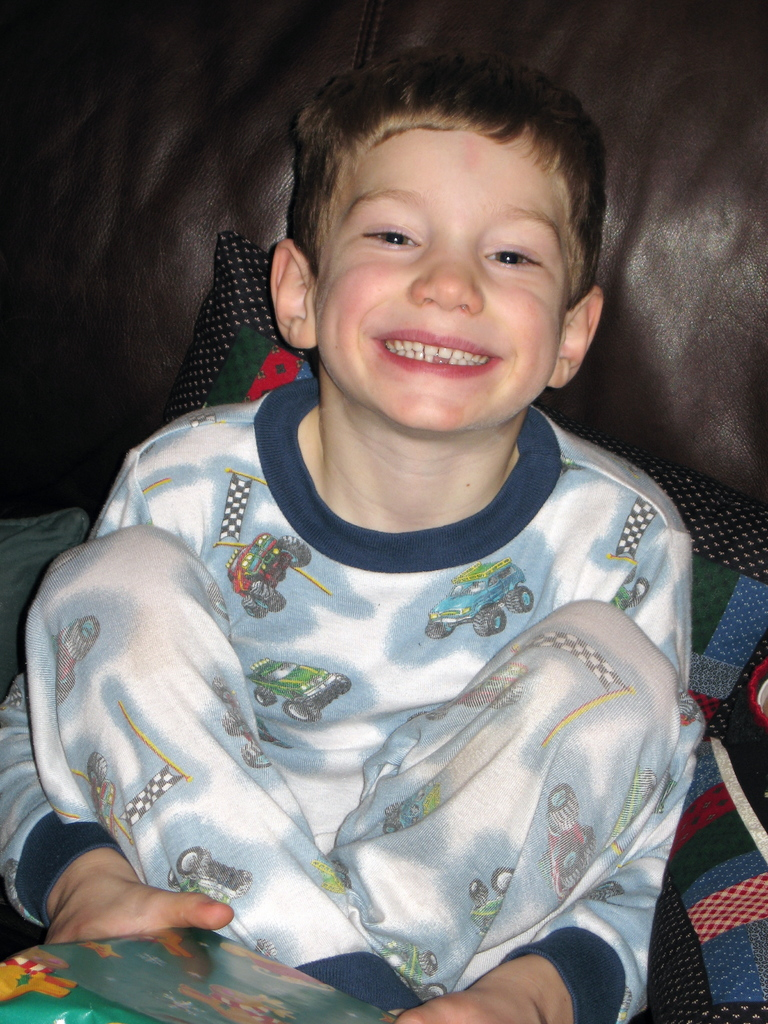Human_hand: (26, 840, 250, 960), (394, 986, 545, 1023)
